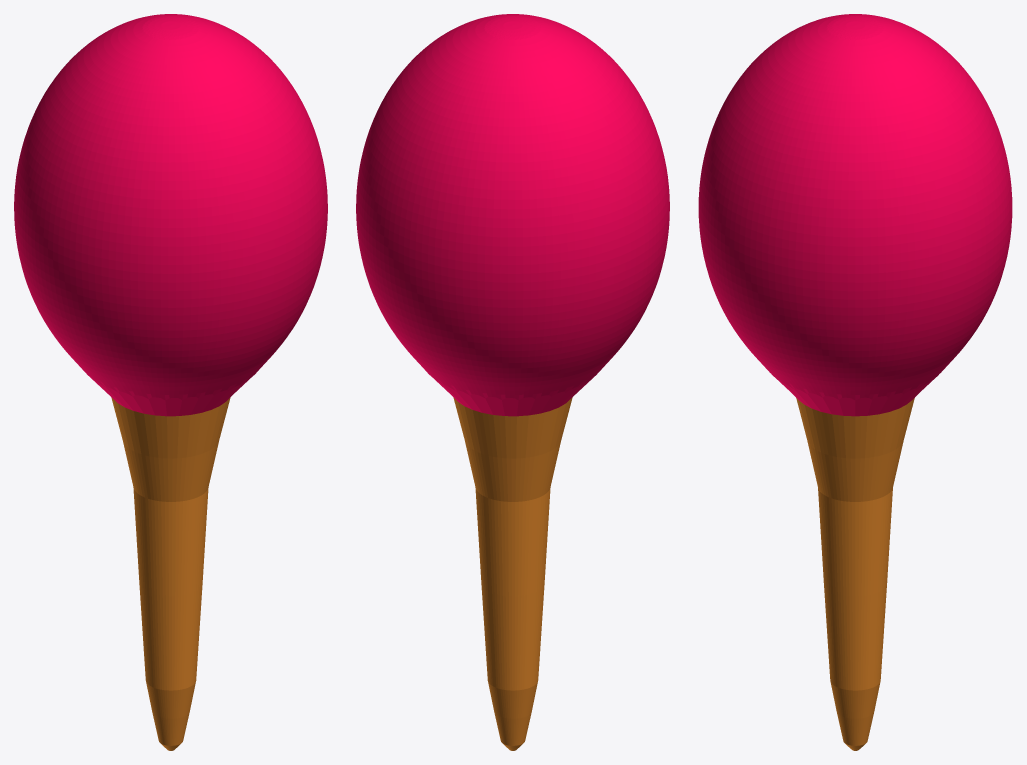
Rendered from maracas-gold-v2 2.glb.
3 views of the same model, side by side, from view 1: azimuth 30°, elevation 25°; view 2: azimuth 150°, elevation 25°; view 3: azimuth 270°, elevation 25° (orthographic).
Parts seen in each view (by area): view 1: Sphere.001; view 2: Sphere.001; view 3: Sphere.001.
Boxes of the visible parts, box(x1,y1,x2,y2) form: Sphere.001: box(14, 14, 327, 750); Sphere.001: box(356, 14, 669, 750); Sphere.001: box(698, 14, 1012, 750).
Bounding box in the file's own units: 1.55 × 3.95 × 1.55.
